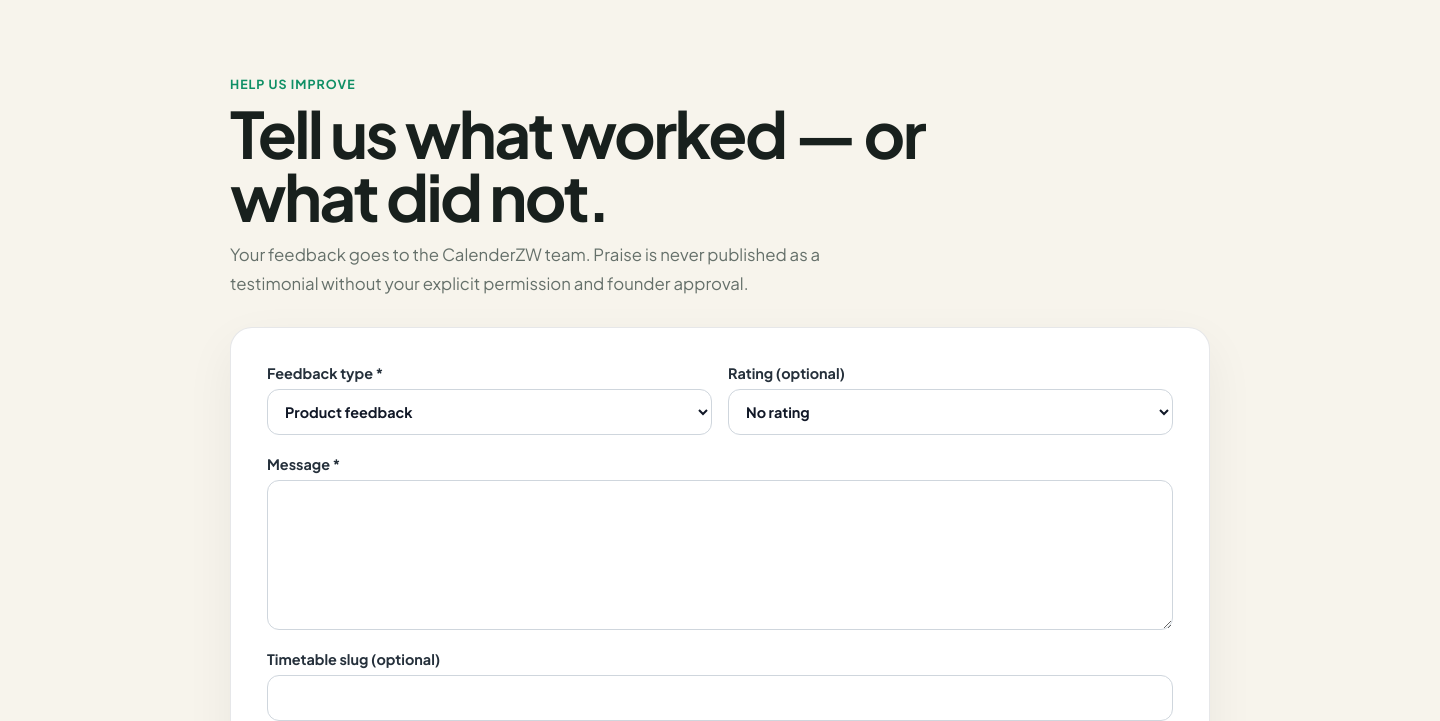
growth capture submission reliability › resets feedback only after a successful form submission
This screenshot has width=1440, height=721.
In the text box labelled "Message *": (720, 554) [267,480,1173,630], type "The timetable is useful"
(page scrolled)
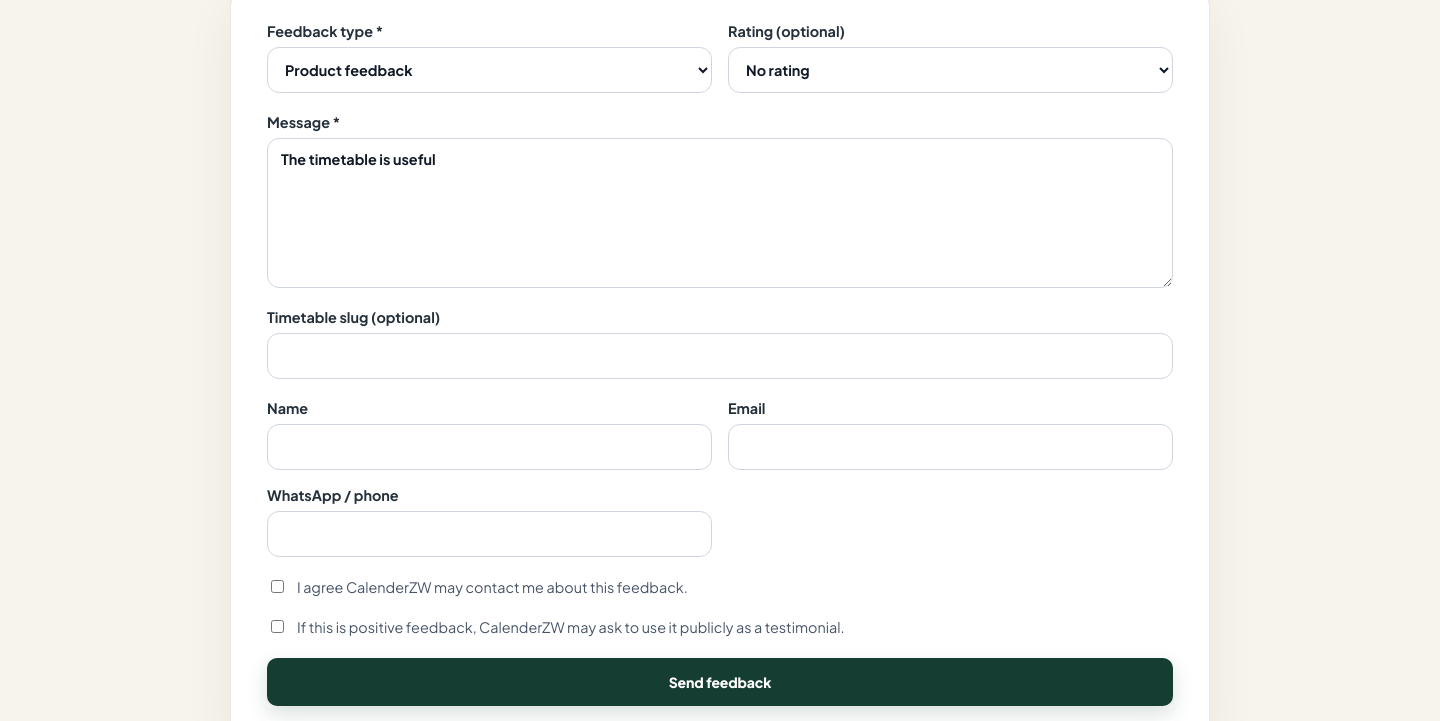
In the field labelled "Email": (950, 446) [728,424,1173,470], type "student@example.com"
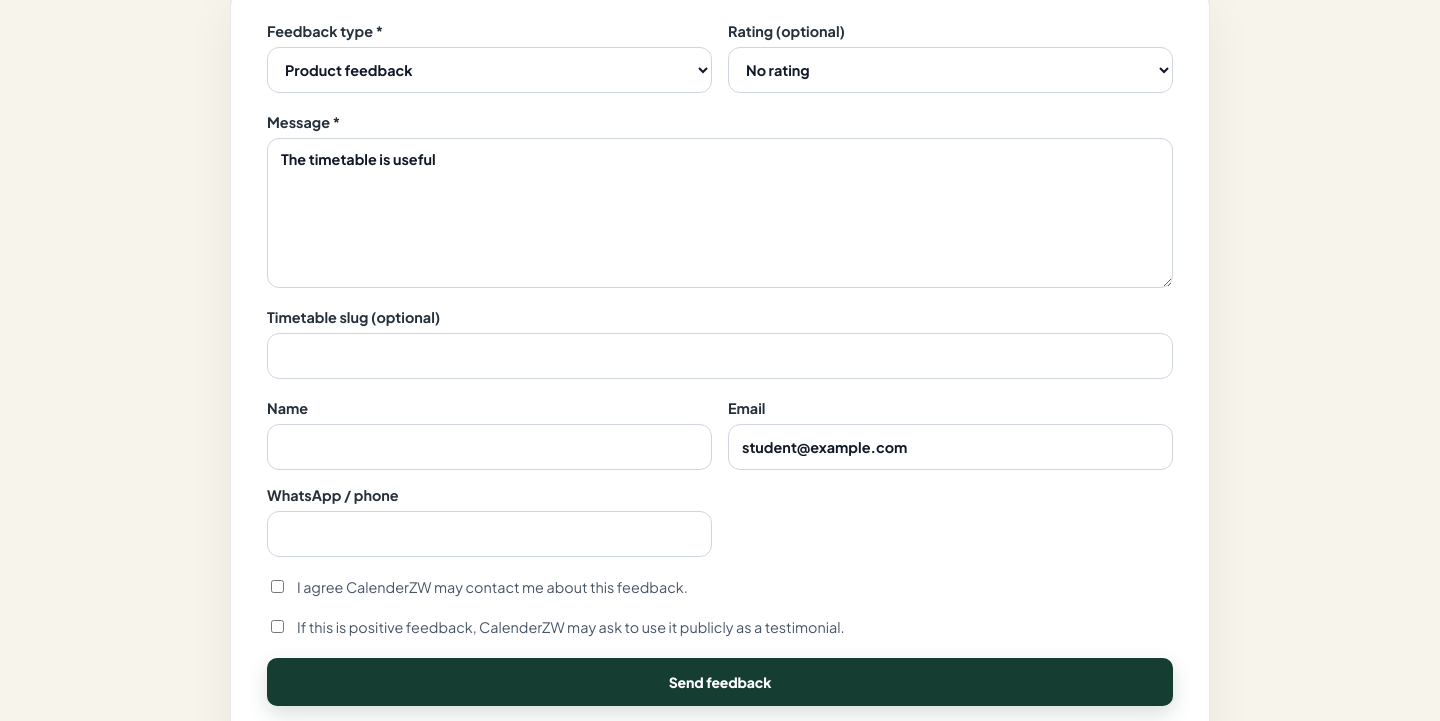
Submit the form named "Send feedback", box [267,22,1173,706]
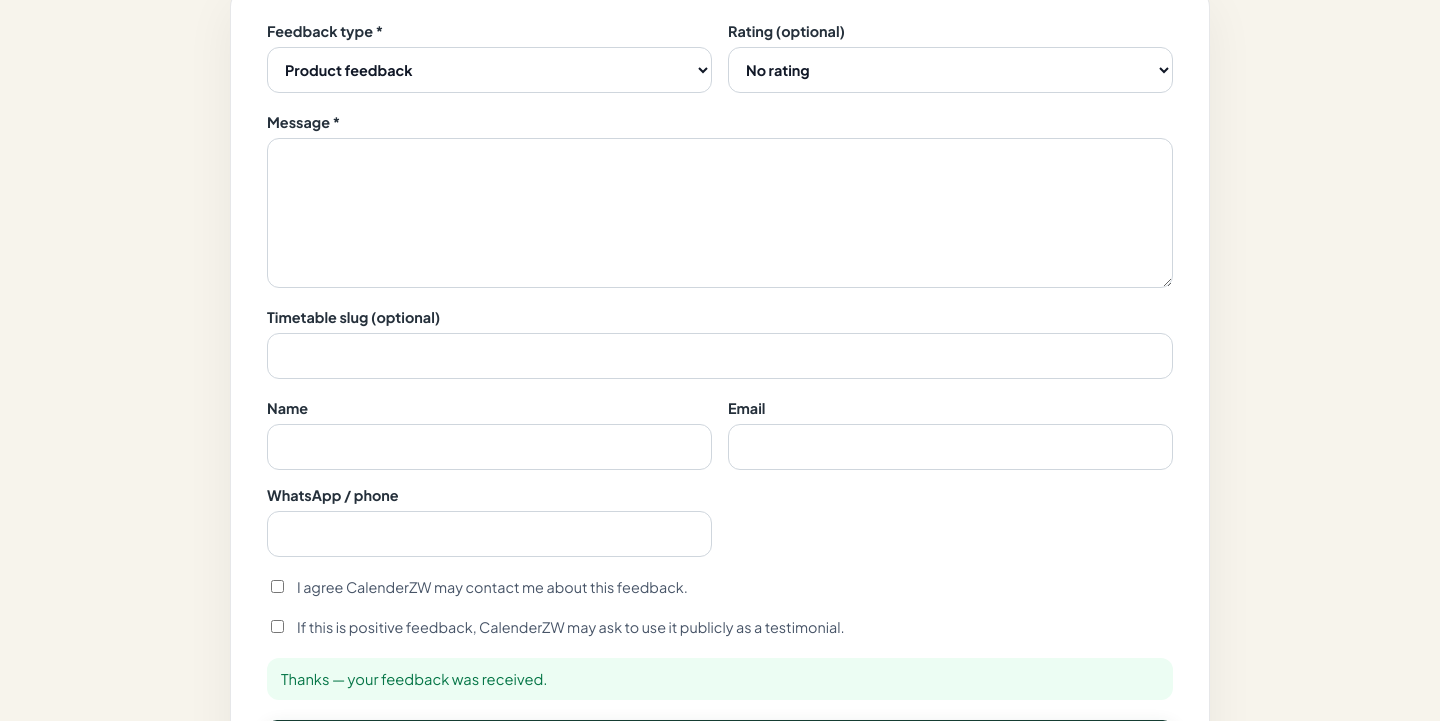
Check: the message reads "Thanks — your feedback was received.", box [281,670,548,688]
Check: the text box labelled "Message *" is empty, box [267,138,1173,288]
